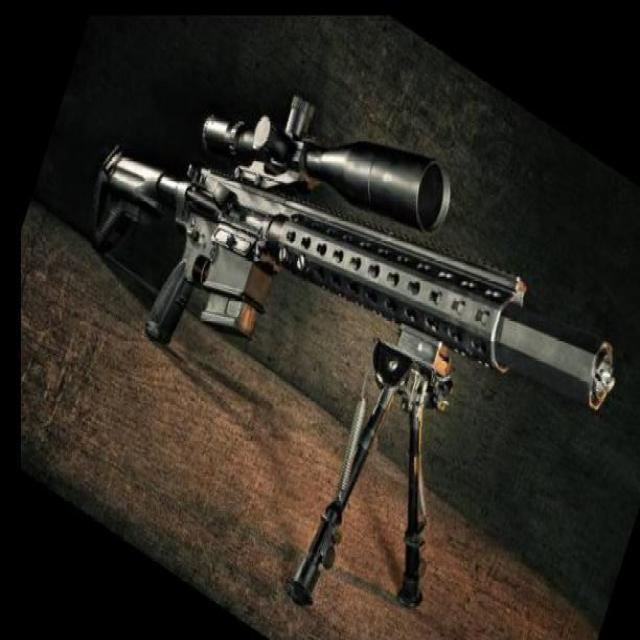weapon: (90, 95, 618, 608)
